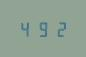four: (18, 20, 33, 37)
nine: (35, 20, 50, 37)
two: (51, 20, 66, 37)
